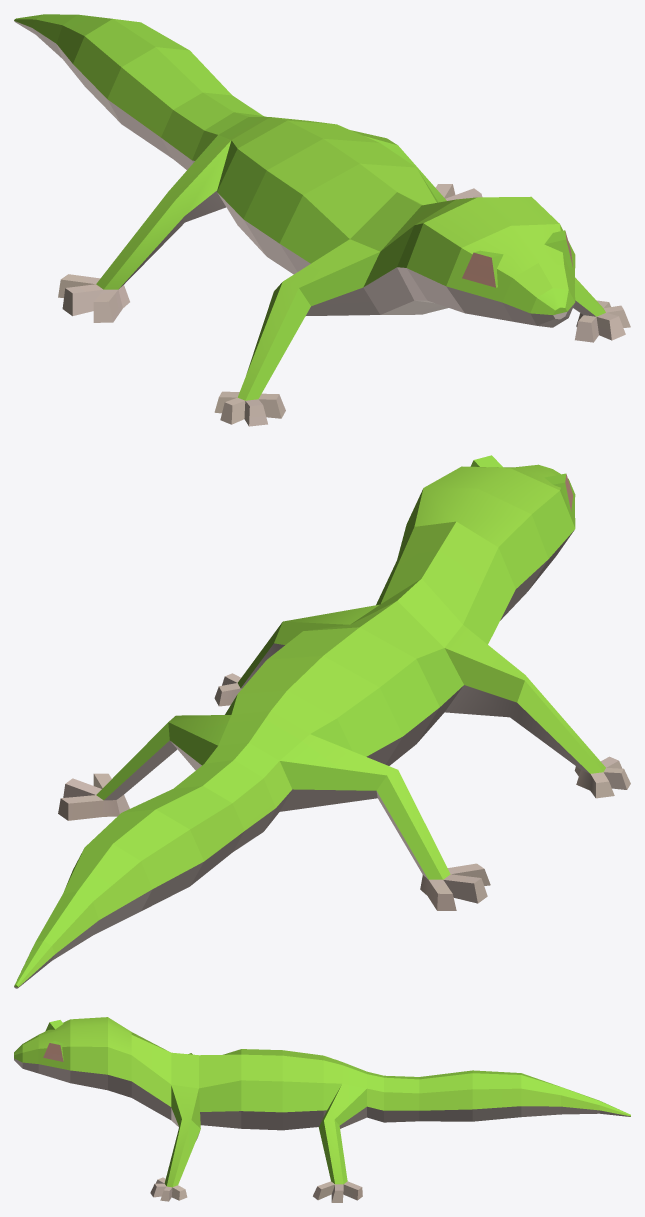
The model's file is prop_pz_salamander.glb.
The picture shows the model from 3 angles, top to bottom: view 1: azimuth 30°, elevation 25°; view 2: azimuth 150°, elevation 25°; view 3: azimuth 270°, elevation 25°; orthographic projection. The views are drawn at different scales.
Visible parts, largest first — view 1: Geo_Gecko; view 2: Geo_Gecko; view 3: Geo_Gecko.
Boxes of the visible parts, <box> form: Geo_Gecko: <box>14,14,630,426</box>; Geo_Gecko: <box>14,455,630,988</box>; Geo_Gecko: <box>14,1017,630,1202</box>.
Size of the model in its own units: 54.11 by 26.48 by 123.
1 material, 1 textured.
